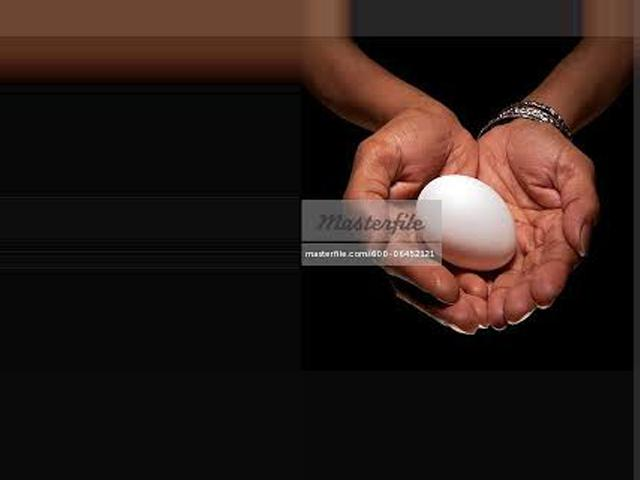egg: (419, 176, 517, 272)
